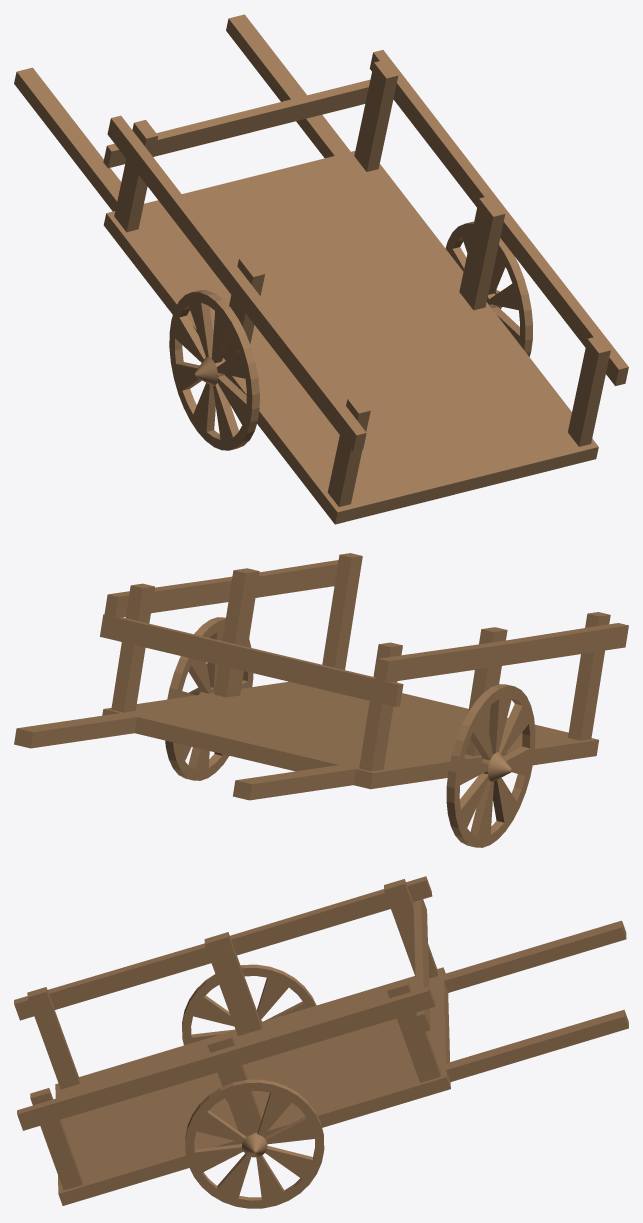
File: cart.fbx
3 renders of one model, top to bottom at view 1: azimuth 30°, elevation 25°; view 2: azimuth 150°, elevation 25°; view 3: azimuth 270°, elevation 25°, orthographic. The views are drawn at different scales.
Visible parts, largest first — view 1: HayCart.001; view 2: HayCart.001; view 3: HayCart.001.
Part boxes in pixels (bbox=[...]): HayCart.001: bbox=[14, 14, 628, 524]; HayCart.001: bbox=[14, 553, 628, 847]; HayCart.001: bbox=[14, 876, 628, 1208].
Size of the model in its own units: 221 by 170 by 436.
